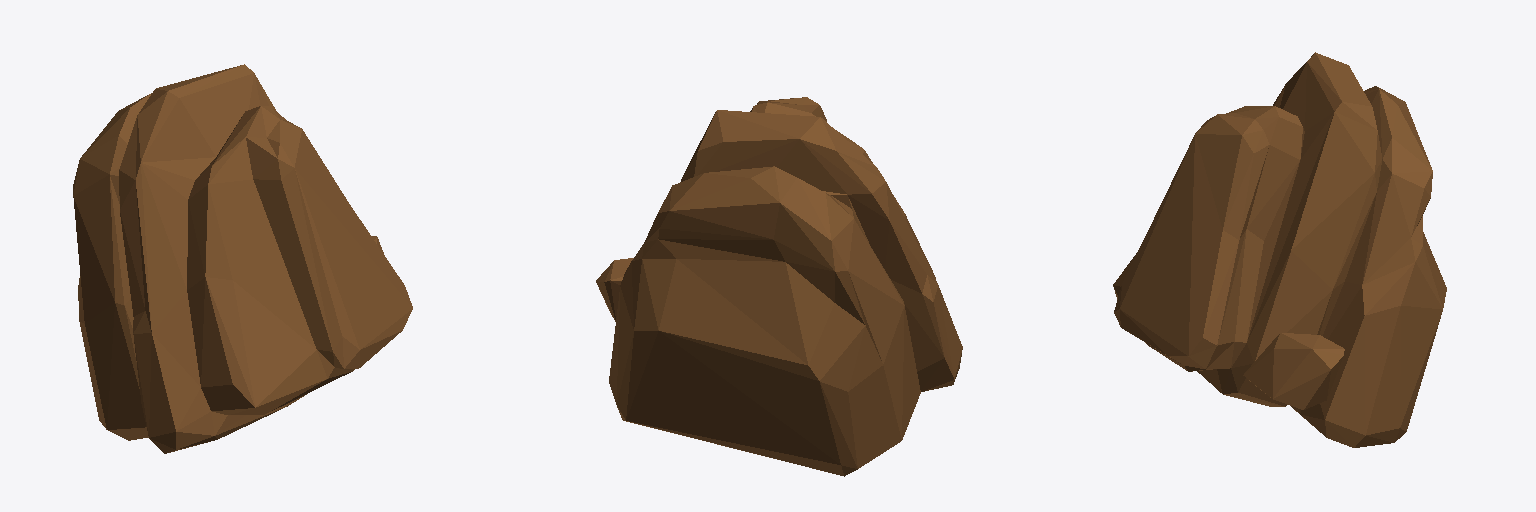
Rendered from jagged_rock.obj.
3 renders of one model, left to right at view 1: azimuth 30°, elevation 25°; view 2: azimuth 150°, elevation 25°; view 3: azimuth 270°, elevation 25°, orthographic.
Parts seen in each view (by area): view 1: jagged_rock_Cube.003; view 2: jagged_rock_Cube.003; view 3: jagged_rock_Cube.003.
Part boxes in pixels (left/top/right/bottom): jagged_rock_Cube.003: left=73, top=64, right=412, bottom=453; jagged_rock_Cube.003: left=596, top=97, right=962, bottom=476; jagged_rock_Cube.003: left=1113, top=52, right=1446, bottom=447.
Size of the model in its own units: 1.55 by 1.71 by 1.53.